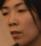without_mask: (1, 1, 41, 46)
